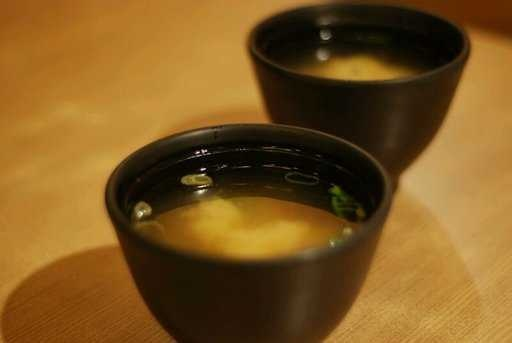soup: (113, 131, 376, 261), (261, 11, 453, 84)
